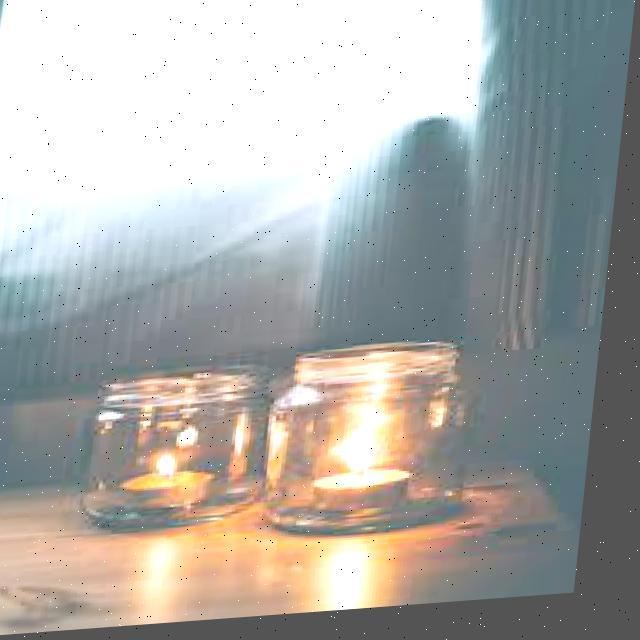Fire: (351, 436, 389, 473), (156, 447, 193, 480)
